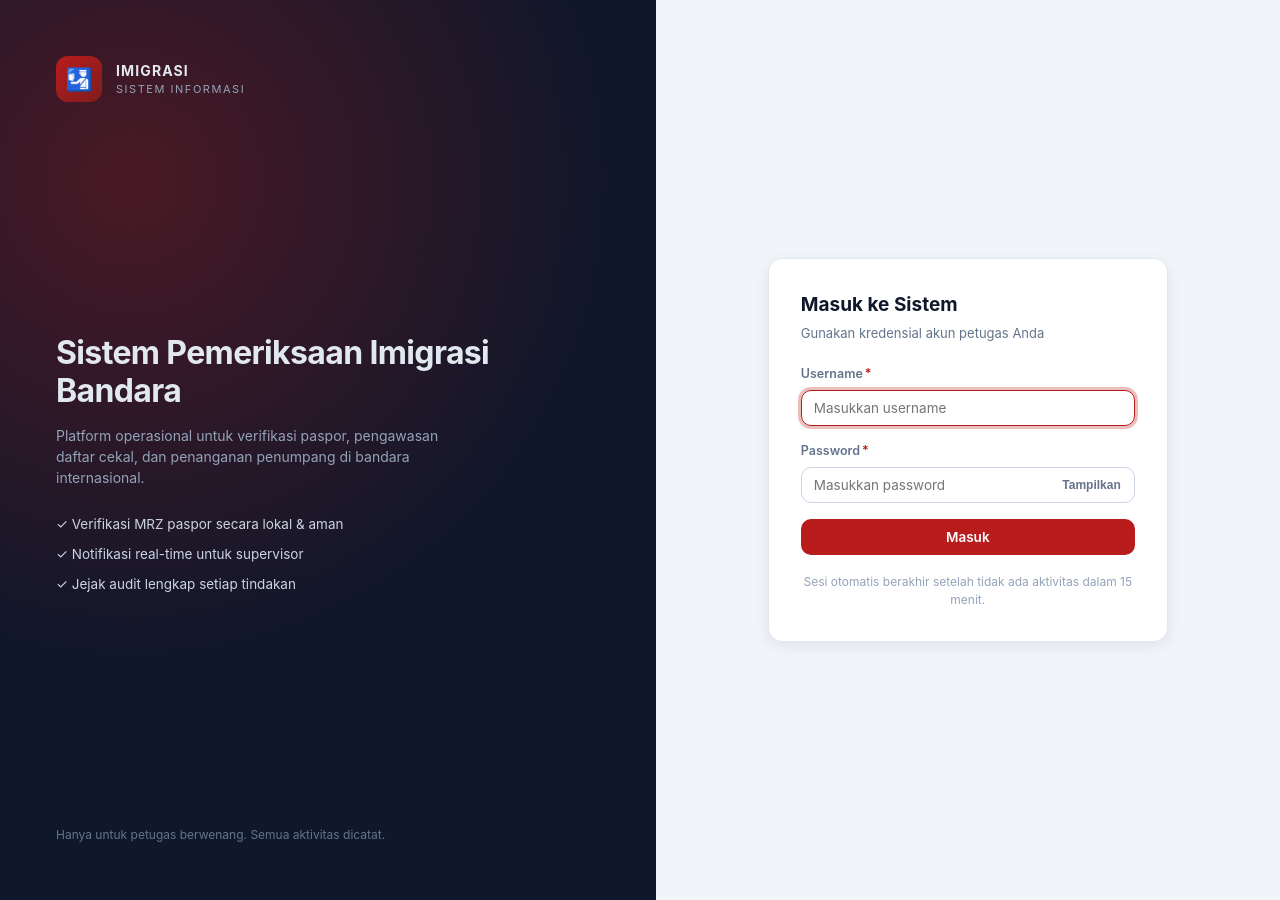
Scenario: LoginPage › submits credentials and reports backend errors generically
Type "admin" into the field labelled "Username*" at (968, 408), box top-left (801, 390), bottom-right (1135, 426)
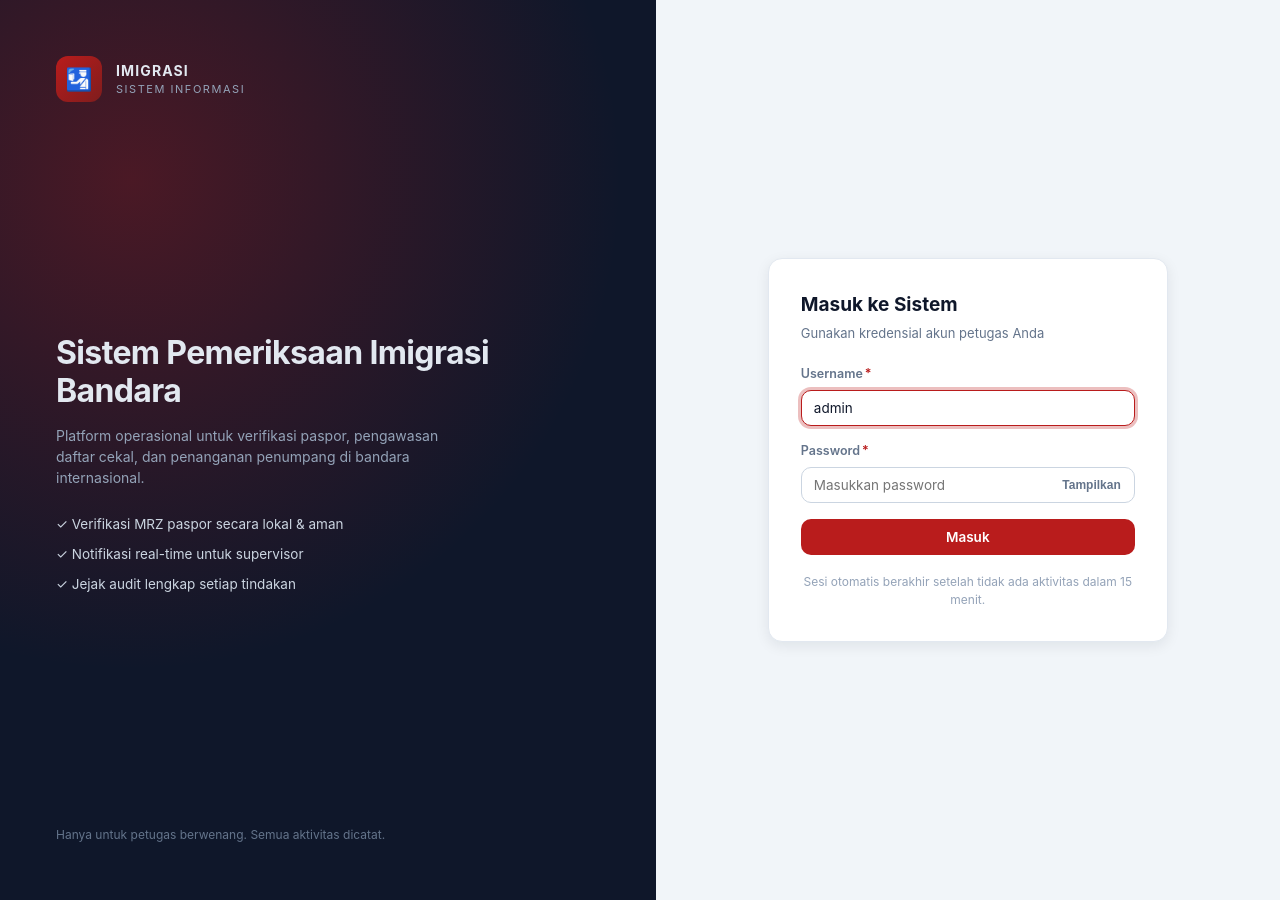
Type "secret" into the password field labelled "Password*" at (968, 485), box top-left (801, 467), bottom-right (1135, 503)
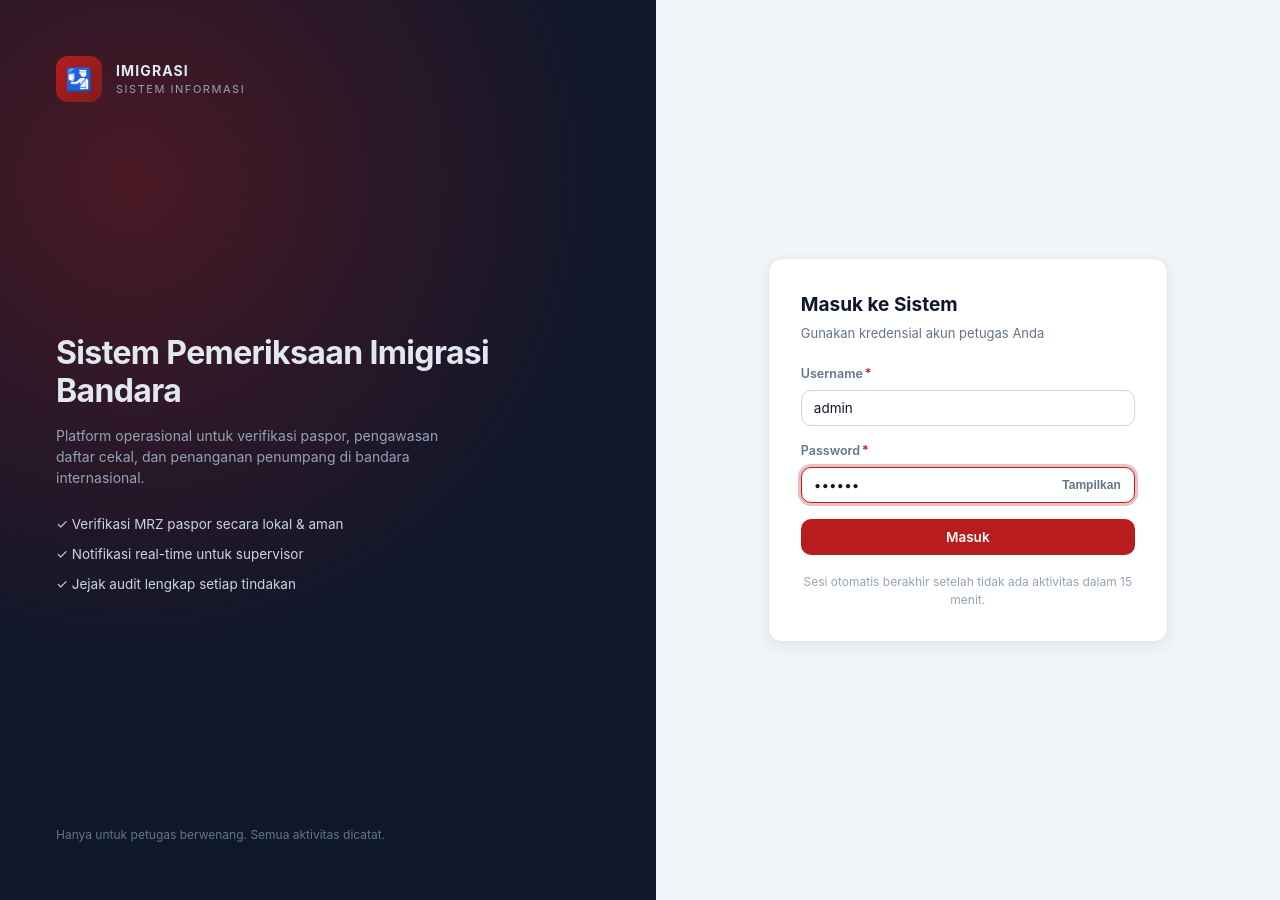
Click the button "Masuk" at (968, 537), box top-left (801, 519), bottom-right (1135, 555)
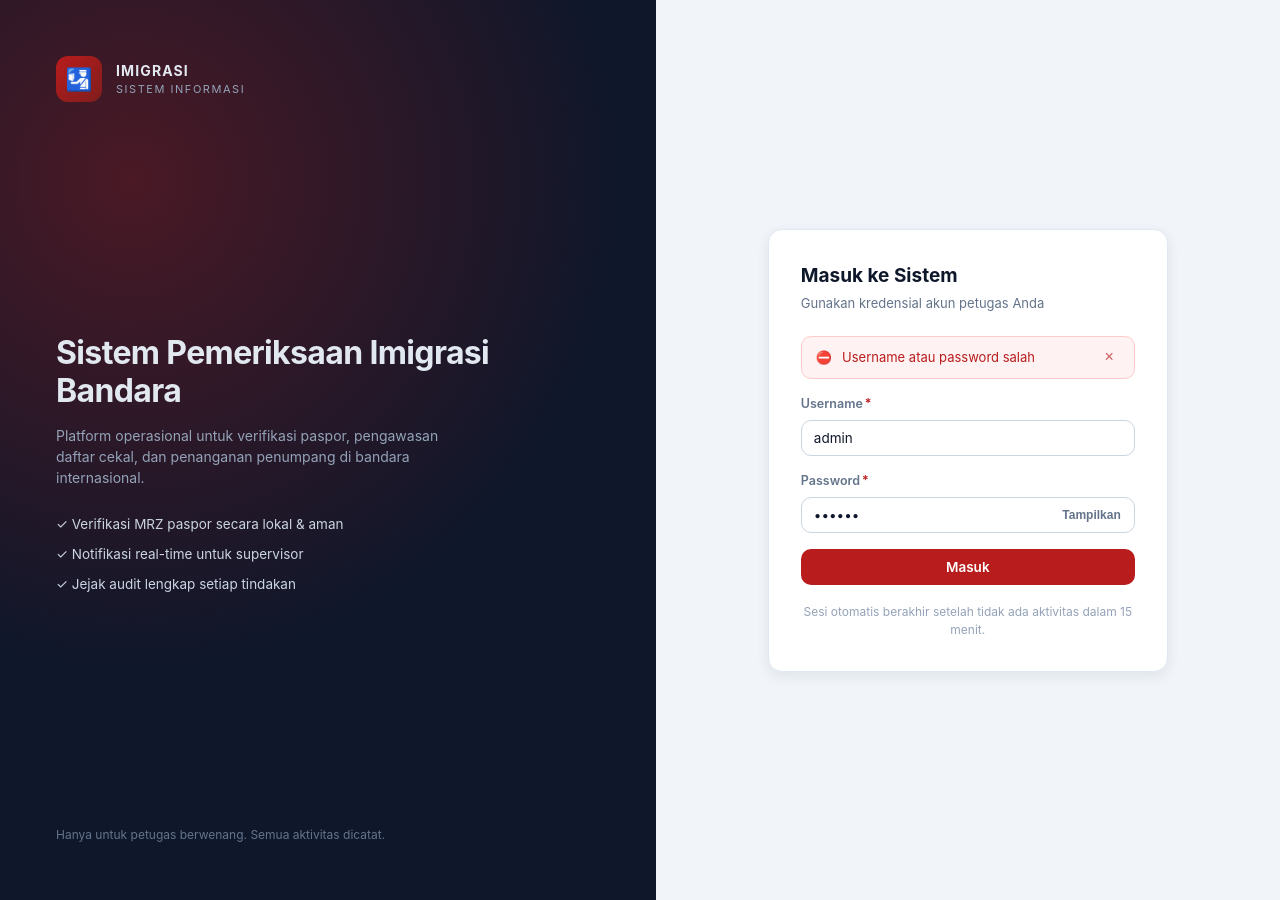
Check: the message shows "Username atau password salah", box top-left (842, 348), bottom-right (1035, 364)
